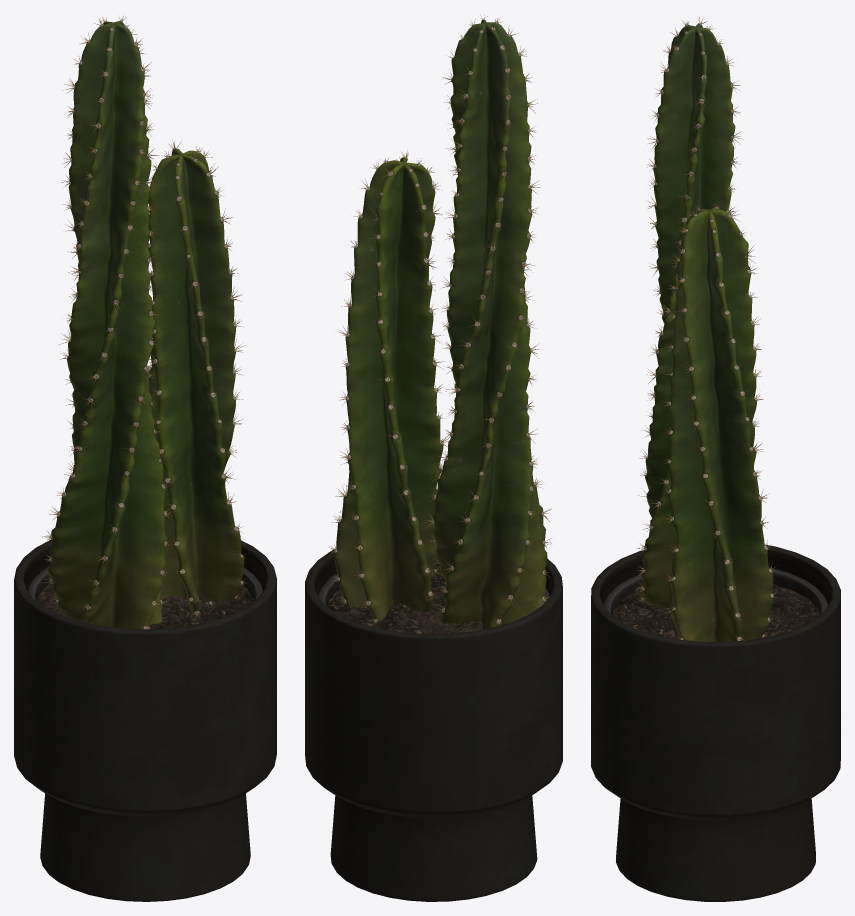
File: green-planter-cactus.glb
3 renders of one model, left to right at view 1: azimuth 30°, elevation 25°; view 2: azimuth 150°, elevation 25°; view 3: azimuth 270°, elevation 25°, orthographic. The views are drawn at different scales.
Visible parts, largest first — view 1: CEREUS_PERUVIANUS_MAT_001_CEREUS_PERUVIANUS_MAT_0, BISHOP_CERAMIC_POT_BISHOP_CERAMIC_POT_Mat_0; view 2: CEREUS_PERUVIANUS_MAT_001_CEREUS_PERUVIANUS_MAT_0, BISHOP_CERAMIC_POT_BISHOP_CERAMIC_POT_Mat_0; view 3: BISHOP_CERAMIC_POT_BISHOP_CERAMIC_POT_Mat_0, CEREUS_PERUVIANUS_MAT_001_CEREUS_PERUVIANUS_MAT_0.
Part boxes in pixels (x1,y1,x2,y2): CEREUS_PERUVIANUS_MAT_001_CEREUS_PERUVIANUS_MAT_0: [42, 16, 247, 629]; BISHOP_CERAMIC_POT_BISHOP_CERAMIC_POT_Mat_0: [14, 540, 276, 901]; CEREUS_PERUVIANUS_MAT_001_CEREUS_PERUVIANUS_MAT_0: [329, 15, 551, 629]; BISHOP_CERAMIC_POT_BISHOP_CERAMIC_POT_Mat_0: [305, 550, 562, 901]; BISHOP_CERAMIC_POT_BISHOP_CERAMIC_POT_Mat_0: [591, 544, 840, 901]; CEREUS_PERUVIANUS_MAT_001_CEREUS_PERUVIANUS_MAT_0: [636, 17, 780, 641].
Bounding box in the file's own units: 0.3379 × 1.22 × 0.3379.
2 materials, 2 textured.
